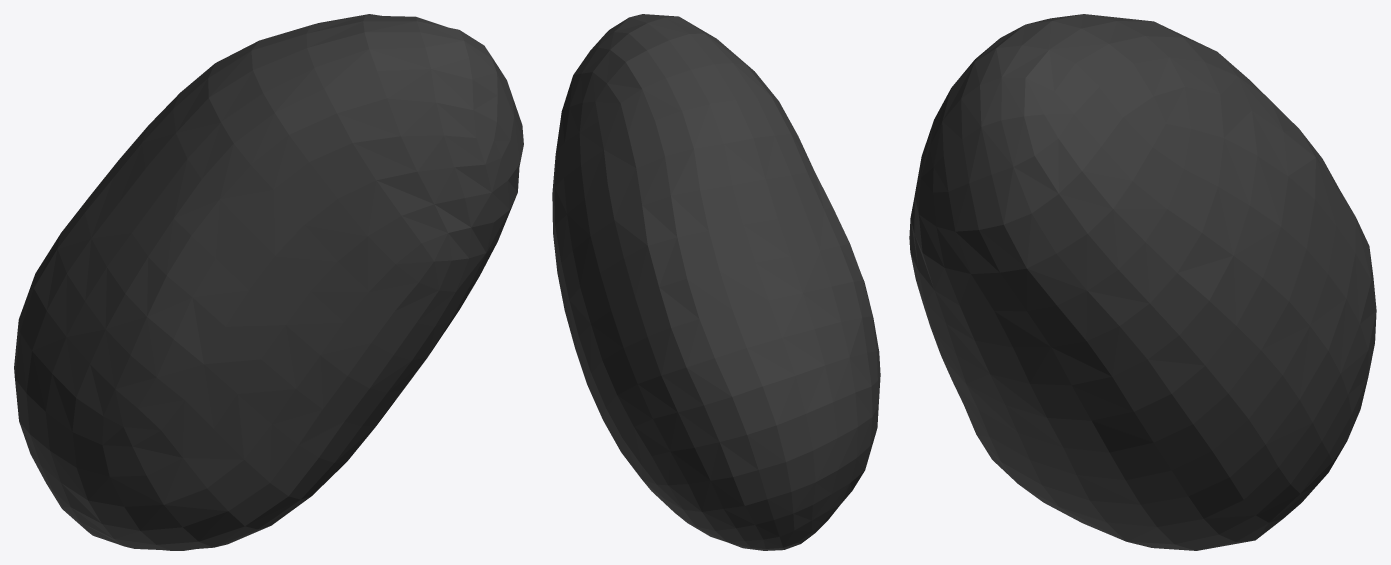
The model's file is dorsal_sesamoid_II_L.glb.
The picture shows the model from 3 angles, left to right: view 1: azimuth 30°, elevation 25°; view 2: azimuth 150°, elevation 25°; view 3: azimuth 270°, elevation 25°; orthographic projection. The views are drawn at different scales.
Parts seen in each view (by area): view 1: dorsal_sesamoid_II_L; view 2: dorsal_sesamoid_II_L; view 3: dorsal_sesamoid_II_L.
Part boxes in pixels (x1,y1,x2,y2): dorsal_sesamoid_II_L: (14, 14, 523, 550); dorsal_sesamoid_II_L: (552, 14, 880, 550); dorsal_sesamoid_II_L: (909, 14, 1376, 550).
Bounding box in the file's own units: 0.00472 × 0.00579 × 0.00416.
1 material, 1 textured.
